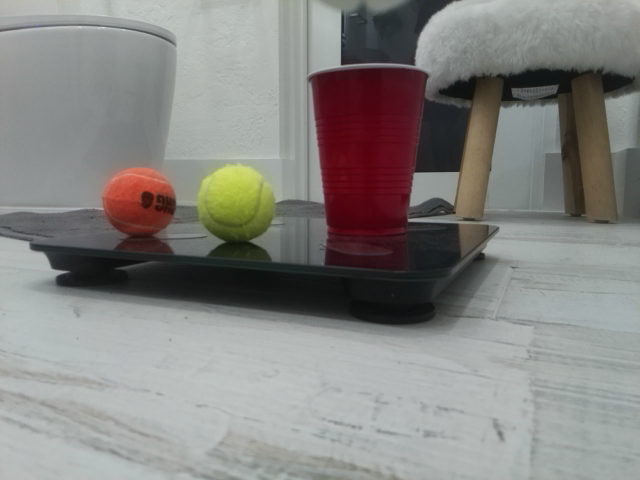orange-ball: (101, 165, 177, 239)
yellow-ball: (196, 162, 277, 245)
